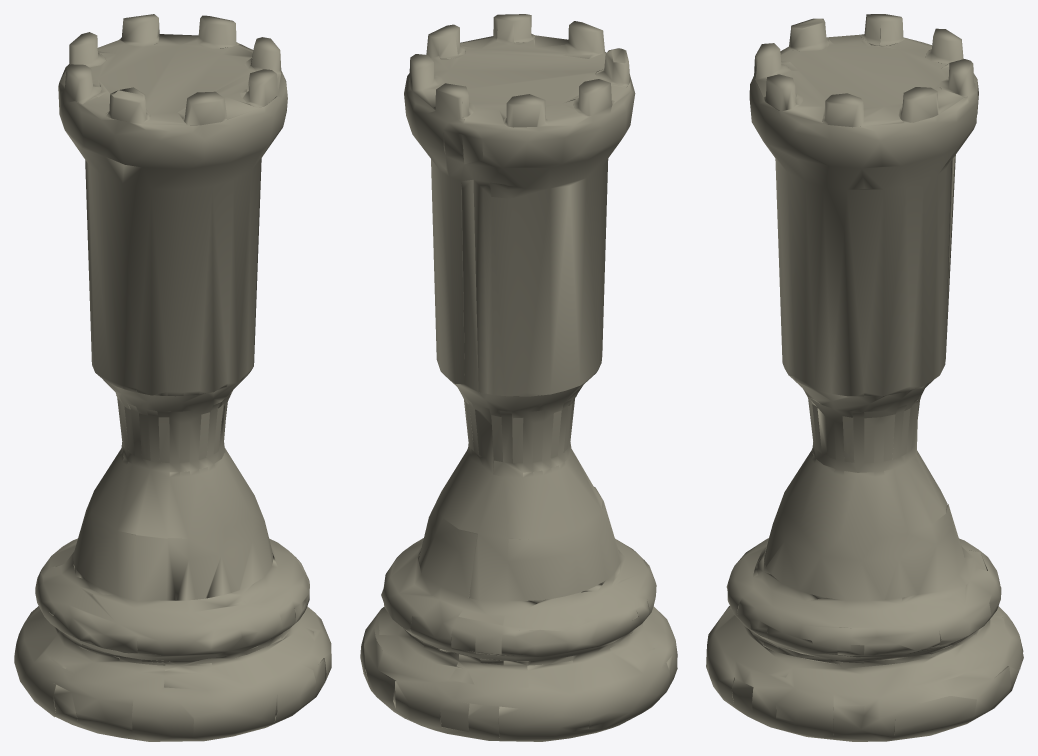
File: Rook.FBX
The picture shows the model from 3 angles, left to right: view 1: azimuth 30°, elevation 25°; view 2: azimuth 150°, elevation 25°; view 3: azimuth 270°, elevation 25°; orthographic projection.
Parts seen in each view (by area): view 1: Rook; view 2: Rook; view 3: Rook.
Part boxes in pixels (x1,y1,x2,y2): Rook: [14, 14, 331, 741]; Rook: [360, 14, 677, 741]; Rook: [706, 14, 1023, 741].
Bounding box in the file's own units: 129 × 284 × 130.
